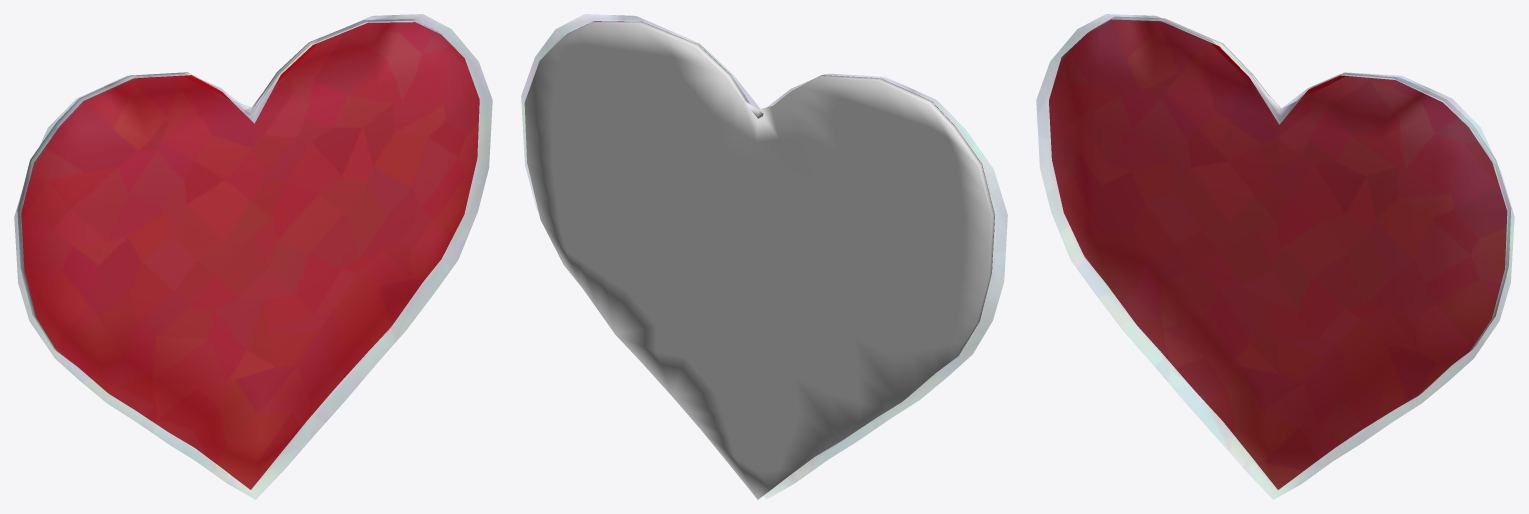
Rendered from hurt_holo.glb.
The picture shows the model from 3 angles, left to right: view 1: azimuth 30°, elevation 25°; view 2: azimuth 150°, elevation 25°; view 3: azimuth 330°, elevation 25°; orthographic projection.
Visible parts, largest first — view 1: 平面, PHOTO_PLANE, 平面11; view 2: 平面11, 平面; view 3: 平面, PHOTO_PLANE, 平面11.
Part boxes in pixels (box(x1,y1,x2,y2)): 平面: box(14, 14, 492, 499); PHOTO_PLANE: box(21, 22, 479, 489); 平面11: box(17, 19, 439, 391); 平面11: box(524, 21, 994, 499); 平面: box(521, 14, 1007, 498); 平面: box(1036, 14, 1514, 499); PHOTO_PLANE: box(1049, 19, 1507, 489); 平面11: box(1091, 16, 1511, 394).
Size of the model in its own units: 2.28 by 2.05 by 0.1344.
3 materials, 1 textured.
